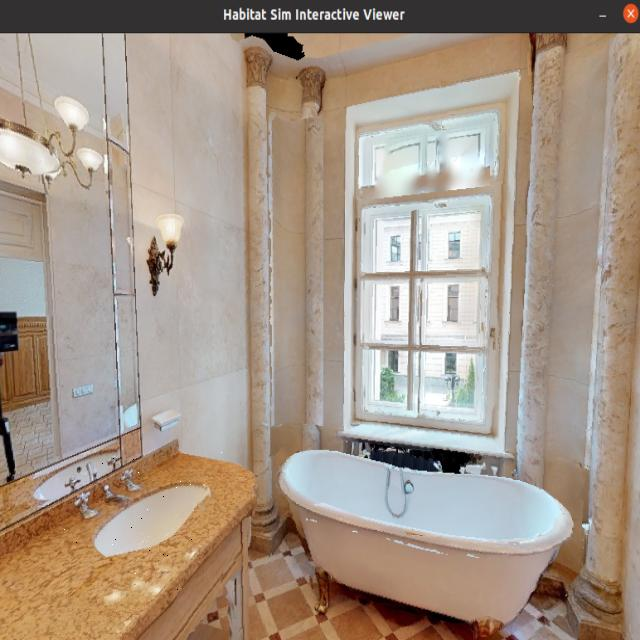sink: (60, 445, 238, 590)
